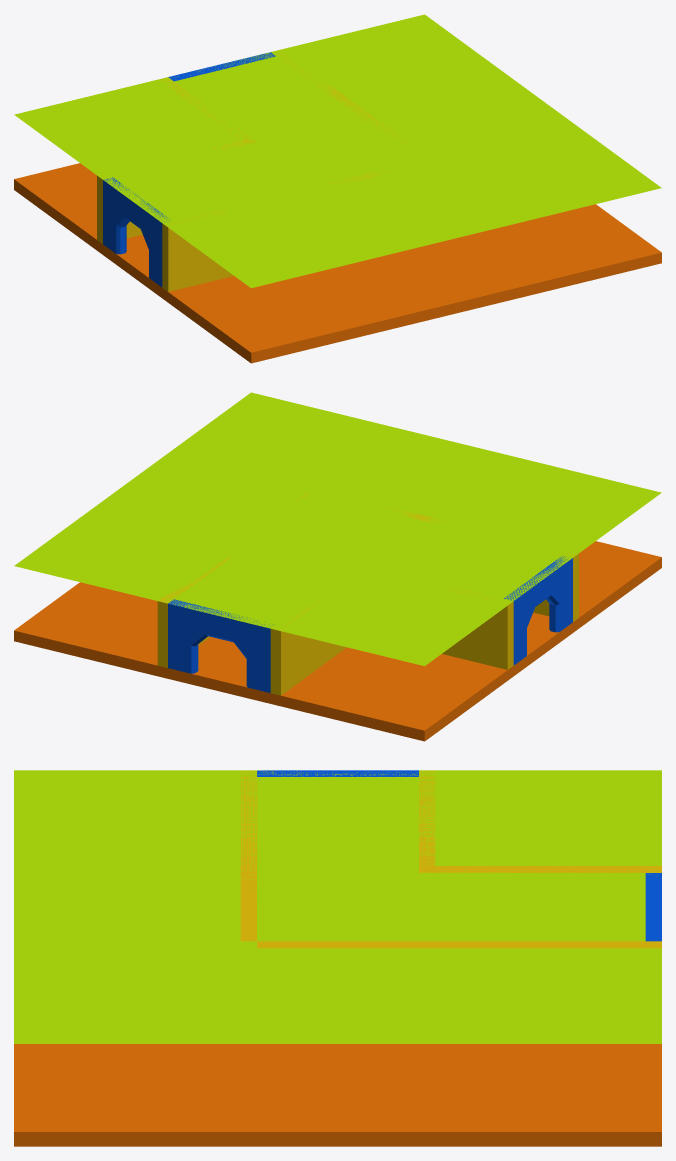
Rendered from L_Corridor.fbx.
3 renders of one model, top to bottom at view 1: azimuth 30°, elevation 25°; view 2: azimuth 150°, elevation 25°; view 3: azimuth 270°, elevation 25°, orthographic. The views are drawn at different scales.
Parts seen in each view (by area): view 1: Roof, Floor, Door_02, Wall_Module_09, Door_01, Wall_Module_07; view 2: Roof, Floor, Door_01, Door_02, Wall_Module_07, Wall_Module_01, Wall_Module_18, Wall_Module_02, Wall_Module_09; view 3: Roof, Floor, Door_01, Door_02, Wall_Module_18, Wall_Module_17, Wall_Module_16, Wall_Module_15, Wall_Module_14, Wall_Module_13, Wall_Module_12, Wall_Module_11 (+3 smaller).
Boxes of the visible parts, bbox=[...] form: Roof: bbox=[14, 14, 661, 288]; Floor: bbox=[14, 163, 661, 363]; Door_02: bbox=[103, 177, 169, 287]; Wall_Module_09: bbox=[162, 211, 219, 291]; Door_01: bbox=[168, 52, 276, 81]; Wall_Module_07: bbox=[97, 175, 142, 243]; Roof: bbox=[14, 392, 661, 666]; Floor: bbox=[14, 541, 661, 741]; Door_01: bbox=[168, 599, 273, 692]; Door_02: bbox=[504, 556, 572, 665]; Wall_Module_07: bbox=[456, 589, 513, 669]; Wall_Module_01: bbox=[270, 608, 310, 695]; Wall_Module_18: bbox=[157, 581, 196, 667]; Wall_Module_02: bbox=[309, 602, 340, 673]; Wall_Module_09: bbox=[533, 553, 578, 621]; Roof: bbox=[14, 770, 661, 1043]; Floor: bbox=[14, 1044, 661, 1146]; Door_01: bbox=[645, 873, 661, 941]; Door_02: bbox=[257, 770, 418, 776]; Wall_Module_18: bbox=[581, 941, 661, 948]; Wall_Module_17: bbox=[500, 941, 580, 948]; Wall_Module_16: bbox=[419, 941, 499, 948]; Wall_Module_15: bbox=[338, 941, 418, 948]; Wall_Module_14: bbox=[257, 941, 337, 948]; Wall_Module_13: bbox=[240, 907, 256, 941]; Wall_Module_12: bbox=[240, 873, 256, 906]; Wall_Module_11: bbox=[240, 838, 256, 872].
Size of the model in its own units: 4000 by 700 by 4000.
